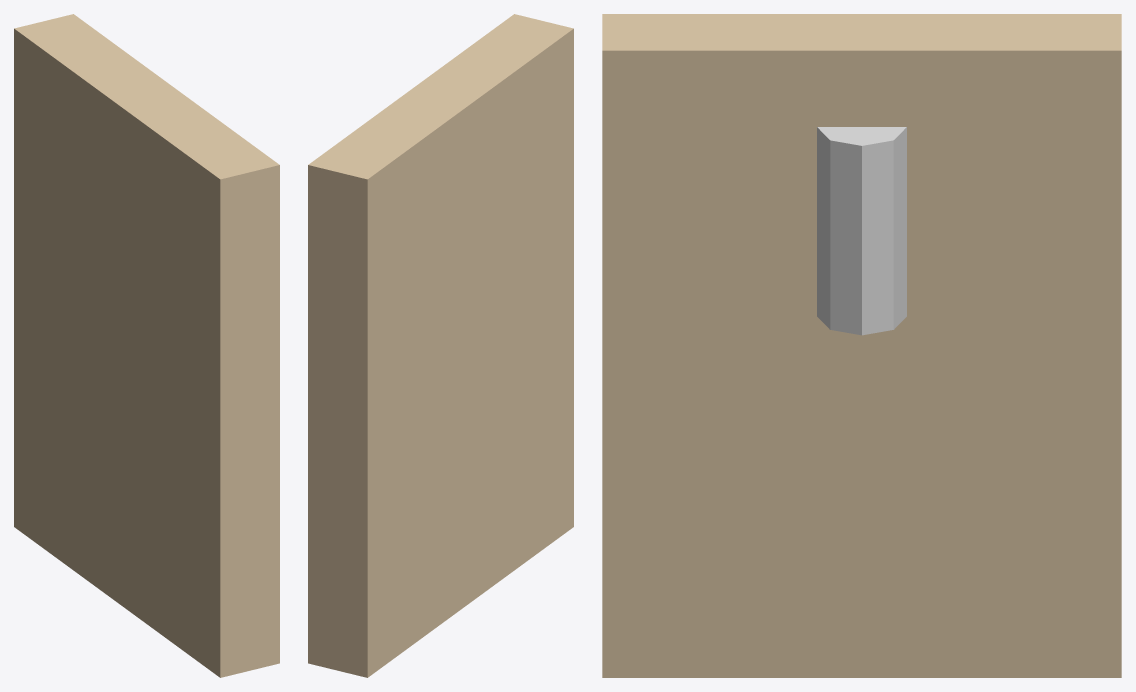
Rendered from WallLight.fbx.
The picture shows the model from 3 angles, left to right: view 1: azimuth 30°, elevation 25°; view 2: azimuth 150°, elevation 25°; view 3: azimuth 270°, elevation 25°; orthographic projection. The views are drawn at different scales.
Visible parts, largest first — view 1: WallLight; view 2: WallLight; view 3: WallLight.
Part boxes in pixels (bbox=[...]): WallLight: bbox=[14, 14, 279, 677]; WallLight: bbox=[308, 14, 573, 677]; WallLight: bbox=[602, 14, 1121, 677].
Size of the model in its own units: 46.33 by 183 by 244.
